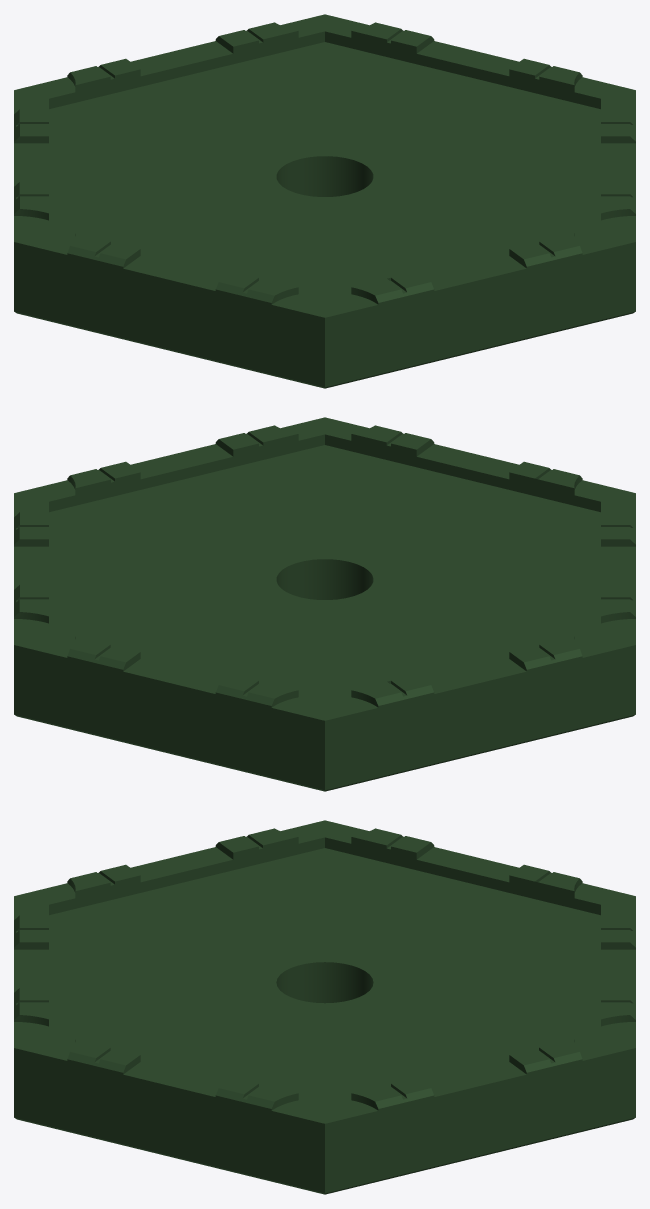
Rendered from schale_dunkelgruen.glb.
The picture shows the model from 3 angles, top to bottom: view 1: azimuth 30°, elevation 25°; view 2: azimuth 150°, elevation 25°; view 3: azimuth 270°, elevation 25°; orthographic projection.
Parts seen in each view (by area): view 1: schale_dunkelgruen; view 2: schale_dunkelgruen; view 3: schale_dunkelgruen.
Boxes of the visible parts, x1,y1,x2,y2 form: schale_dunkelgruen: (14, 14, 635, 388); schale_dunkelgruen: (14, 417, 635, 791); schale_dunkelgruen: (14, 820, 635, 1194).
Bounding box in the file's own units: 73.9 × 9 × 64.
